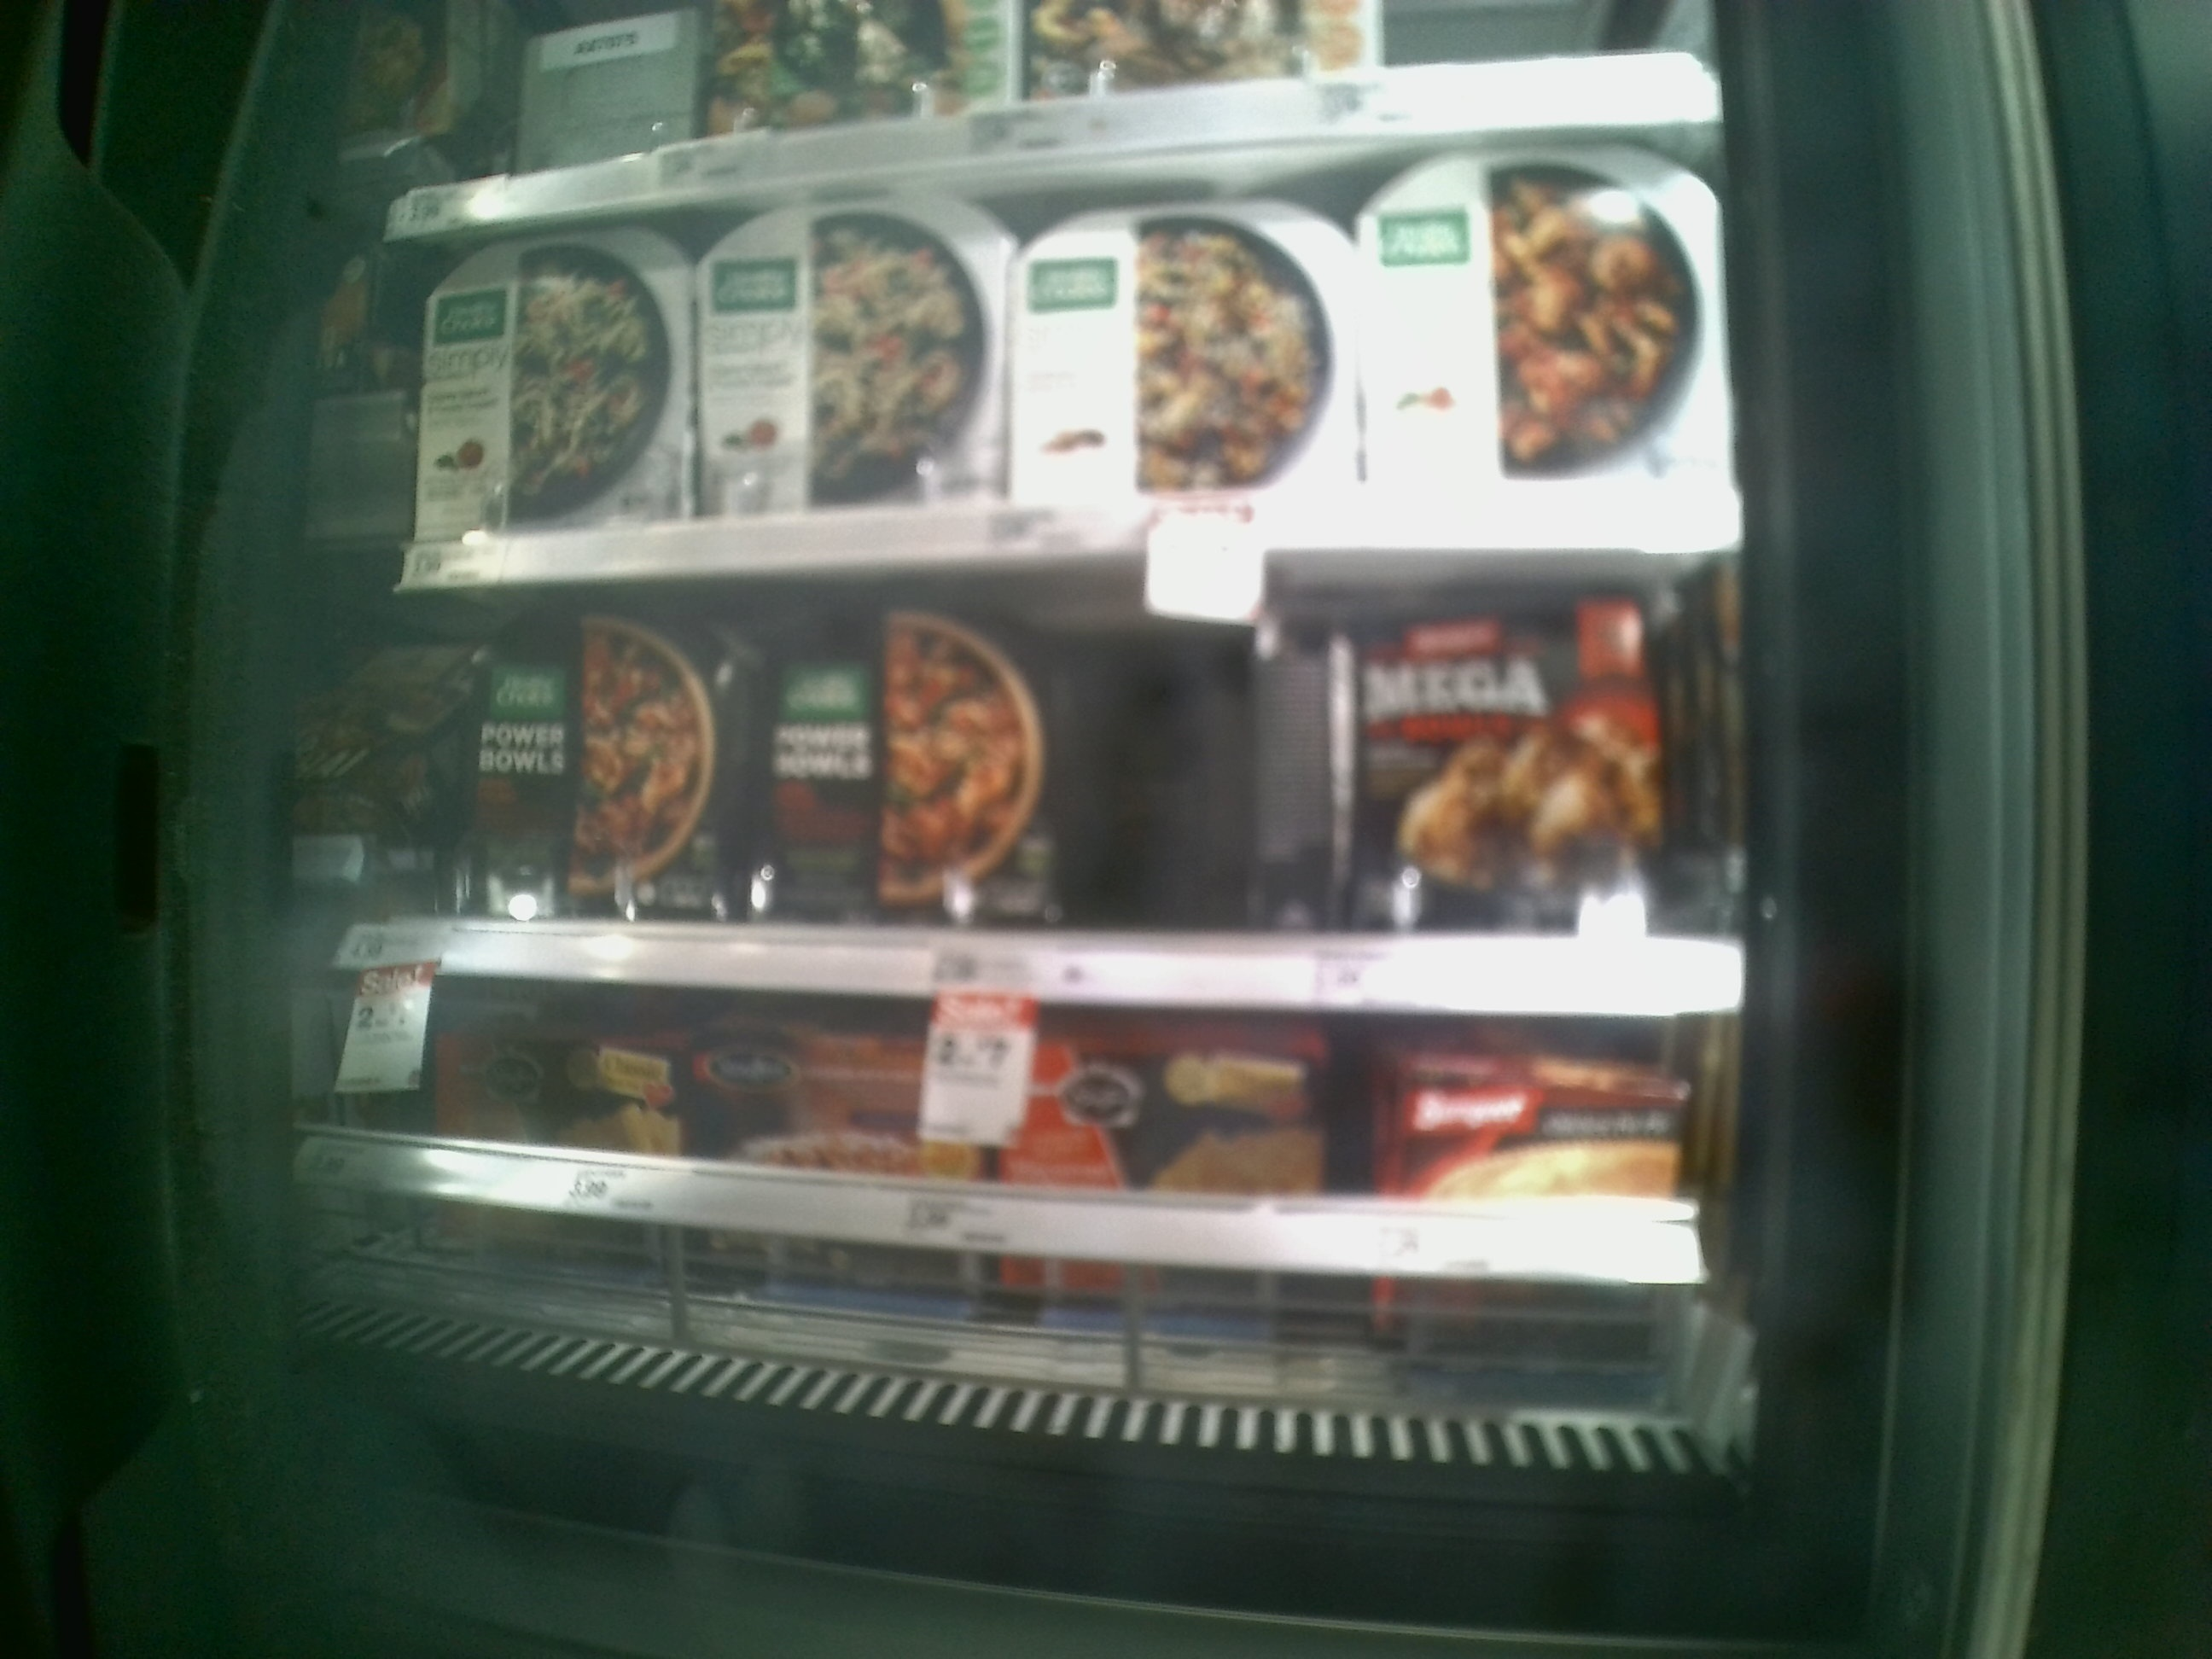pizza: (1359, 153, 1716, 486), (1345, 587, 1663, 932), (1008, 200, 1355, 507), (698, 200, 1012, 523), (763, 608, 1075, 913), (415, 240, 702, 532), (469, 617, 744, 911)
